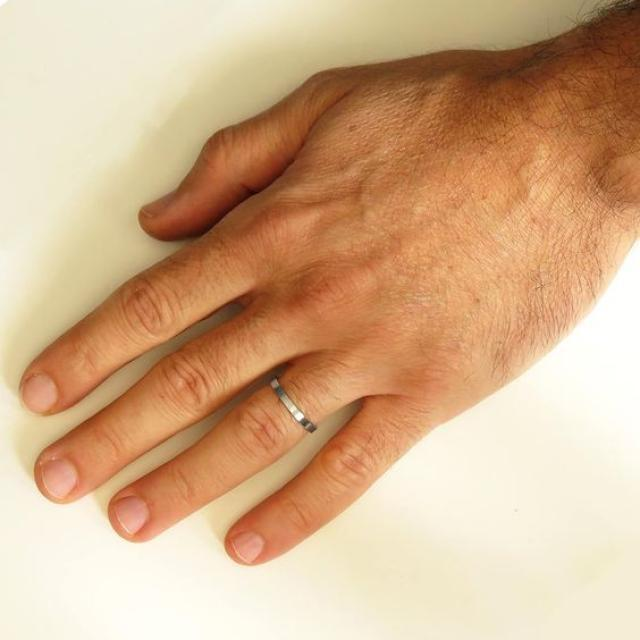Fingernail: (23, 374, 58, 415), (42, 459, 77, 500), (114, 496, 150, 535), (231, 531, 263, 565)
